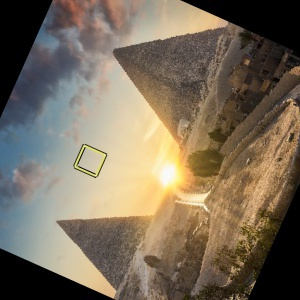square: (72, 143, 107, 179)
